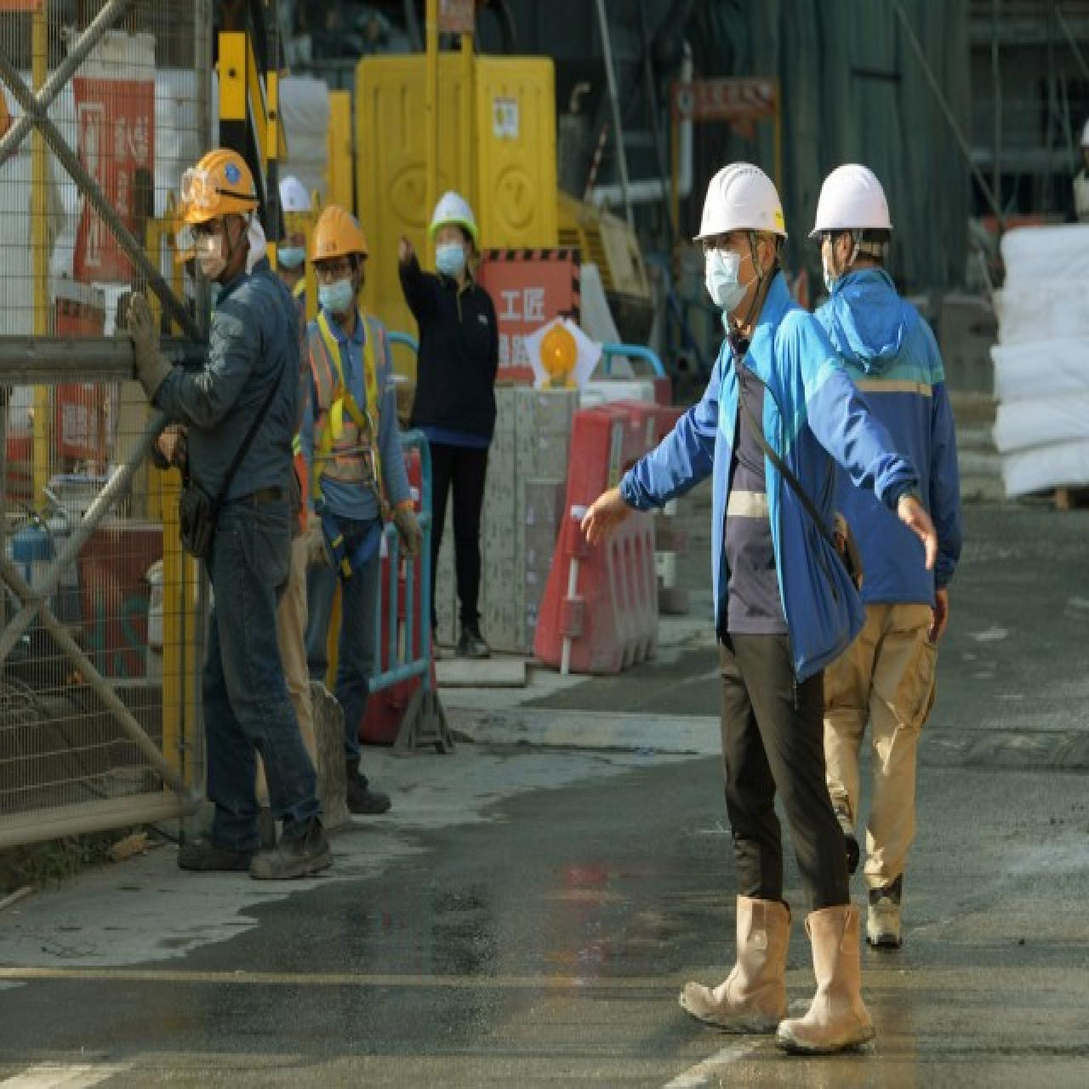NO_Safety_Vest: (683, 303, 878, 678), (798, 281, 946, 611), (168, 274, 298, 507), (305, 317, 388, 519), (412, 269, 495, 452)
Person: (556, 149, 944, 1070), (780, 153, 970, 969), (134, 150, 329, 880), (295, 206, 421, 817), (398, 189, 498, 668), (267, 178, 315, 308)
